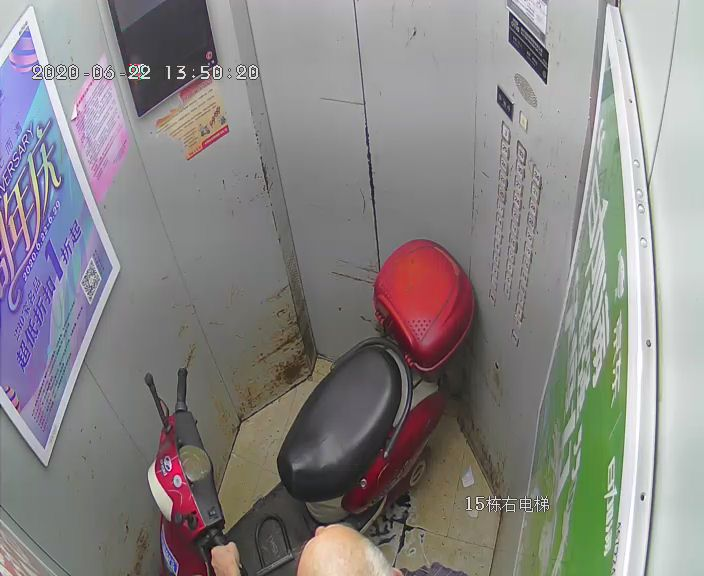Electric-bicycle: (150, 240, 465, 567)
